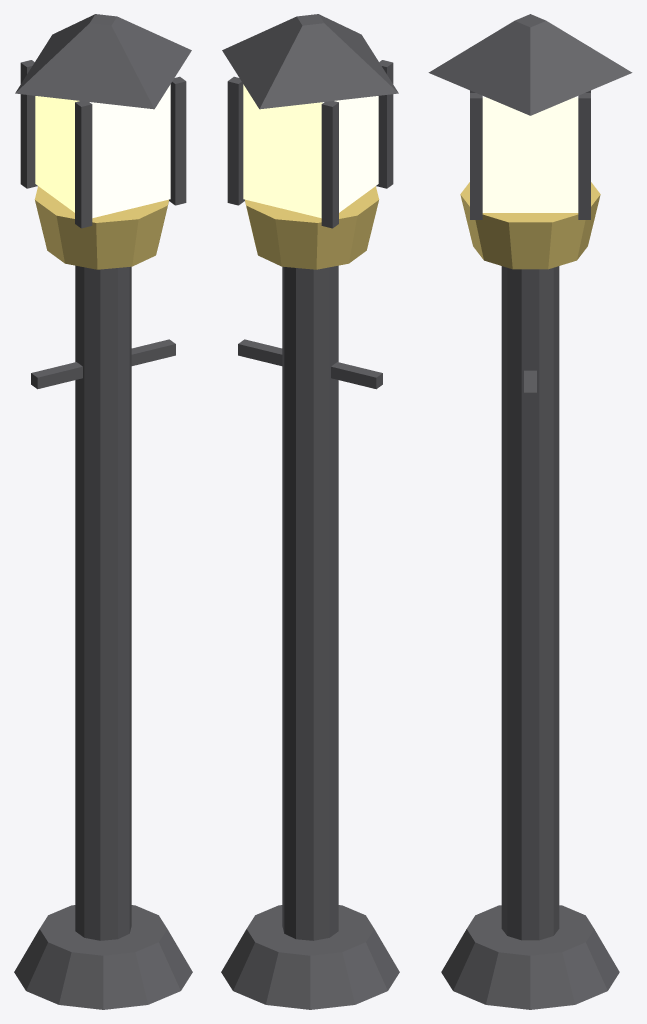
Rendered from LampPost.glb.
The picture shows the model from 3 angles, left to right: view 1: azimuth 30°, elevation 25°; view 2: azimuth 150°, elevation 25°; view 3: azimuth 270°, elevation 25°; orthographic projection.
Parts seen in each view (by area): view 1: LampPost; view 2: LampPost; view 3: LampPost.
Part boxes in pixels (x1=…): LampPost: x1=14, y1=14, x2=192, y2=1009; LampPost: x1=221, y1=14, x2=399, y2=1009; LampPost: x1=428, y1=14, x2=632, y2=1009.
Size of the model in its own units: 0.64 by 3.29 by 0.64.
